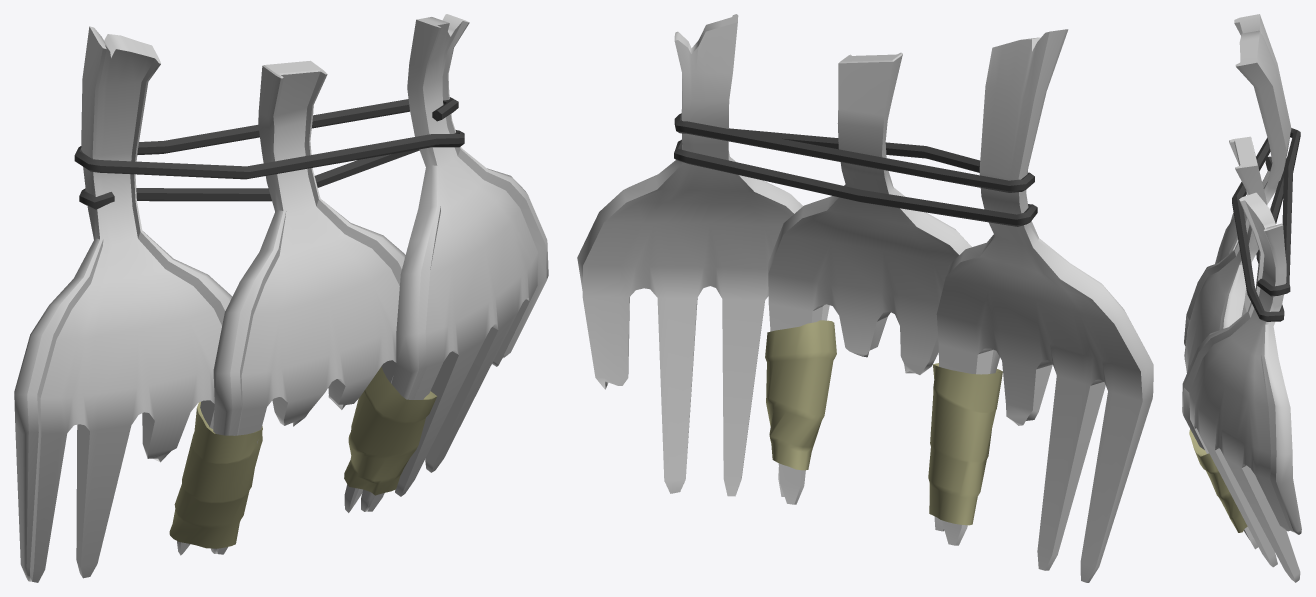
Rendered from ForkBarrierVar1.fbx.
3 views of the same model, side by side, from view 1: azimuth 30°, elevation 25°; view 2: azimuth 150°, elevation 25°; view 3: azimuth 270°, elevation 25° (orthographic). The views are drawn at different scales.
Parts seen in each view (by area): view 1: pasted__pasted__pasted__pasted__pasted__pasted__pCube2, pasted__pasted__pasted__pasted__pasted__pCube1, pasted__pasted__pasted__pasted__pasted__pasted__pCube1, pasted__pCylinder2, pasted__pCylinder1, pasted__pasted__pCylinder1; view 2: pasted__pasted__pasted__pasted__pasted__pasted__pCube2, pasted__pasted__pasted__pasted__pasted__pasted__pCube1, pasted__pasted__pasted__pasted__pasted__pCube1, pasted__pCylinder2, pasted__pCylinder1, pasted__pasted__pCylinder1; view 3: pasted__pasted__pasted__pasted__pasted__pasted__pCube1, pasted__pasted__pasted__pasted__pasted__pCube1, pasted__pasted__pasted__pasted__pasted__pasted__pCube2, pasted__pCylinder2, pasted__pasted__pCylinder1.
Part boxes in pixels (<box>): pasted__pasted__pasted__pasted__pasted__pasted__pCube2: <box>14,26,232,582</box>; pasted__pasted__pasted__pasted__pasted__pCube1: <box>210,60,405,554</box>; pasted__pasted__pasted__pasted__pasted__pasted__pCube1: <box>361,14,548,511</box>; pasted__pCylinder2: <box>74,97,464,209</box>; pasted__pCylinder1: <box>169,402,262,548</box>; pasted__pasted__pCylinder1: <box>344,366,437,495</box>; pasted__pasted__pasted__pasted__pasted__pasted__pCube2: <box>936,29,1153,582</box>; pasted__pasted__pasted__pasted__pasted__pasted__pCube1: <box>577,14,829,496</box>; pasted__pasted__pasted__pasted__pasted__pCube1: <box>767,52,999,531</box>; pasted__pCylinder2: <box>674,113,1037,226</box>; pasted__pCylinder1: <box>928,363,1002,525</box>; pasted__pasted__pCylinder1: <box>765,320,836,470</box>; pasted__pasted__pasted__pasted__pasted__pasted__pCube1: <box>1182,192,1301,582</box>; pasted__pasted__pasted__pasted__pasted__pCube1: <box>1184,136,1267,372</box>; pasted__pasted__pasted__pasted__pasted__pasted__pCube2: <box>1215,14,1291,315</box>; pasted__pCylinder2: <box>1232,128,1300,321</box>; pasted__pasted__pCylinder1: <box>1189,429,1247,532</box>.
Bounding box in the file's own units: 4.21 × 3.95 × 0.9965.
